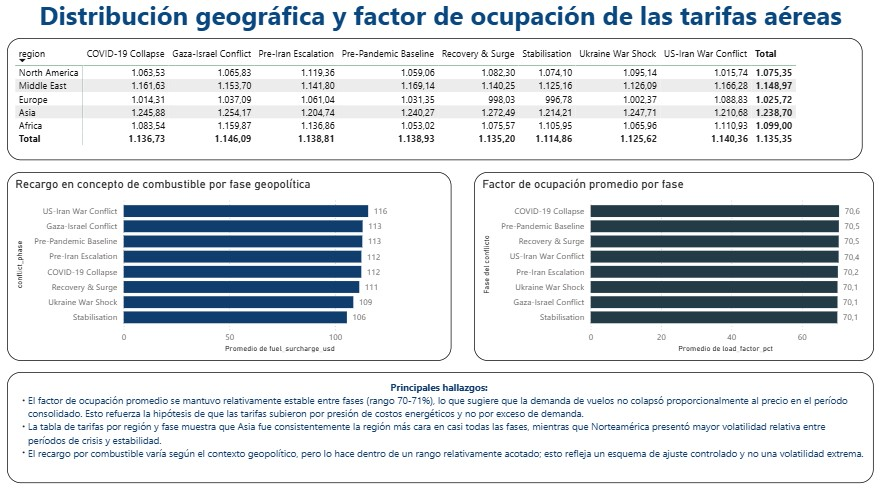

What the dashboard file says about the page in this screenshot:
{"tool":"powerbi","page":{"name":"Página 2","canvas":[1280,720],"ordinal":1},"visuals":[{"type":"textbox","box":[0,0,1280,64],"z":0},{"type":"clusteredBarChart","title":"Recargo en concepto de combustible por fase geopolítica","fields":{"Category":["airline_ticket_prices.conflict_phase"],"Y":["Avg(airline_ticket_prices.fuel_surcharge_usd)"]},"box":[16,256,640,272],"z":1000},{"type":"textbox","box":[16,544,1248,160],"z":2000},{"type":"barChart","title":"Factor de ocupación promedio por fase","fields":{"Category":["airline_ticket_prices.conflict_phase"],"Y":["Avg(airline_ticket_prices.load_factor_pct)"]},"box":[688,256,576,272],"z":3000},{"type":"pivotTable","title":"Tarifa promedio por región geográfica","fields":{"Columns":["airline_ticket_prices.conflict_phase"],"Rows":["airline_ticket_prices.region"],"Values":["Avg(airline_ticket_prices.total_fare_usd)"]},"box":[16,64,1232,176],"z":4000}]}

Visuals, with their boxes in screenshot pixels (x1, y1, x2, y2), scaled from the page's 1280x720 canvas onto the 881x488 screenshot:
textbox: 0:0:880:43
"Recargo en concepto de combustible por fase geopolítica" clusteredBarChart: 11:174:452:358
textbox: 11:369:870:477
"Factor de ocupación promedio por fase" barChart: 474:174:870:358
"Tarifa promedio por región geográfica" pivotTable: 11:43:859:163
